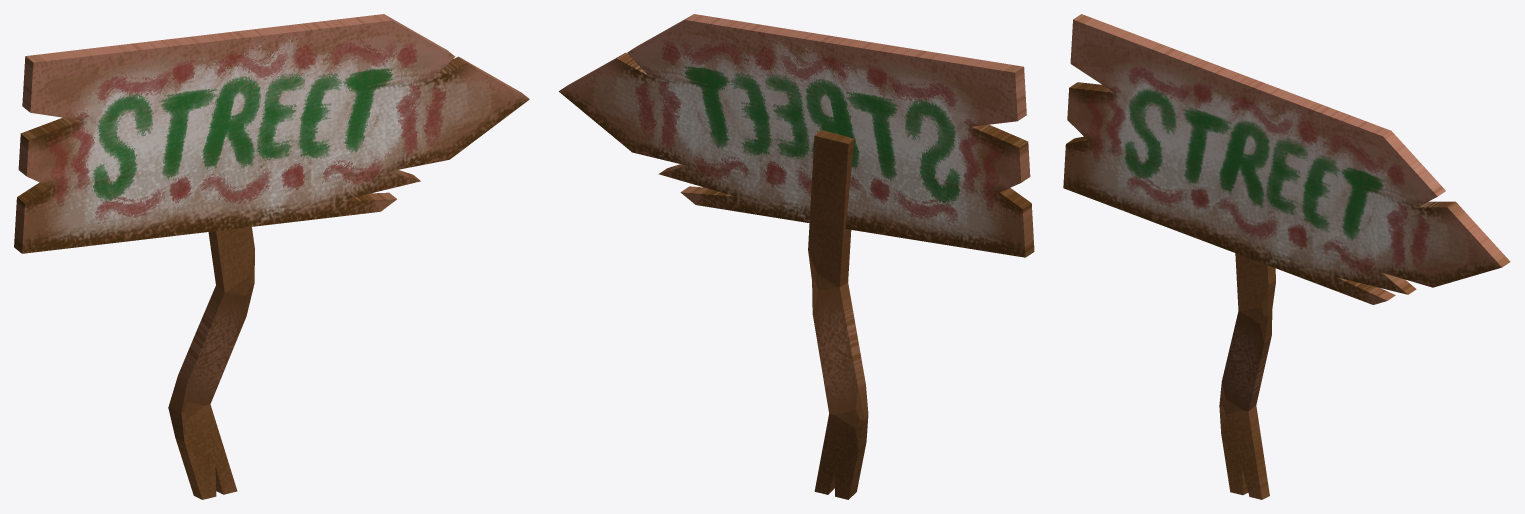
Rendered from return sign.fbx.
3 views of the same model, side by side, from view 1: azimuth 30°, elevation 25°; view 2: azimuth 150°, elevation 25°; view 3: azimuth 330°, elevation 25° (orthographic). The views are drawn at different scales.
Parts seen in each view (by area): view 1: Plane; view 2: Plane; view 3: Plane.
Boxes of the visible parts, x1=… form: Plane: x1=14, y1=14, x2=529, y2=499; Plane: x1=559, y1=14, x2=1034, y2=499; Plane: x1=1063, y1=14, x2=1510, y2=499.
Bounding box in the file's own units: 282 × 262 × 28.19.
Materials: 1 (1 with a texture image).
